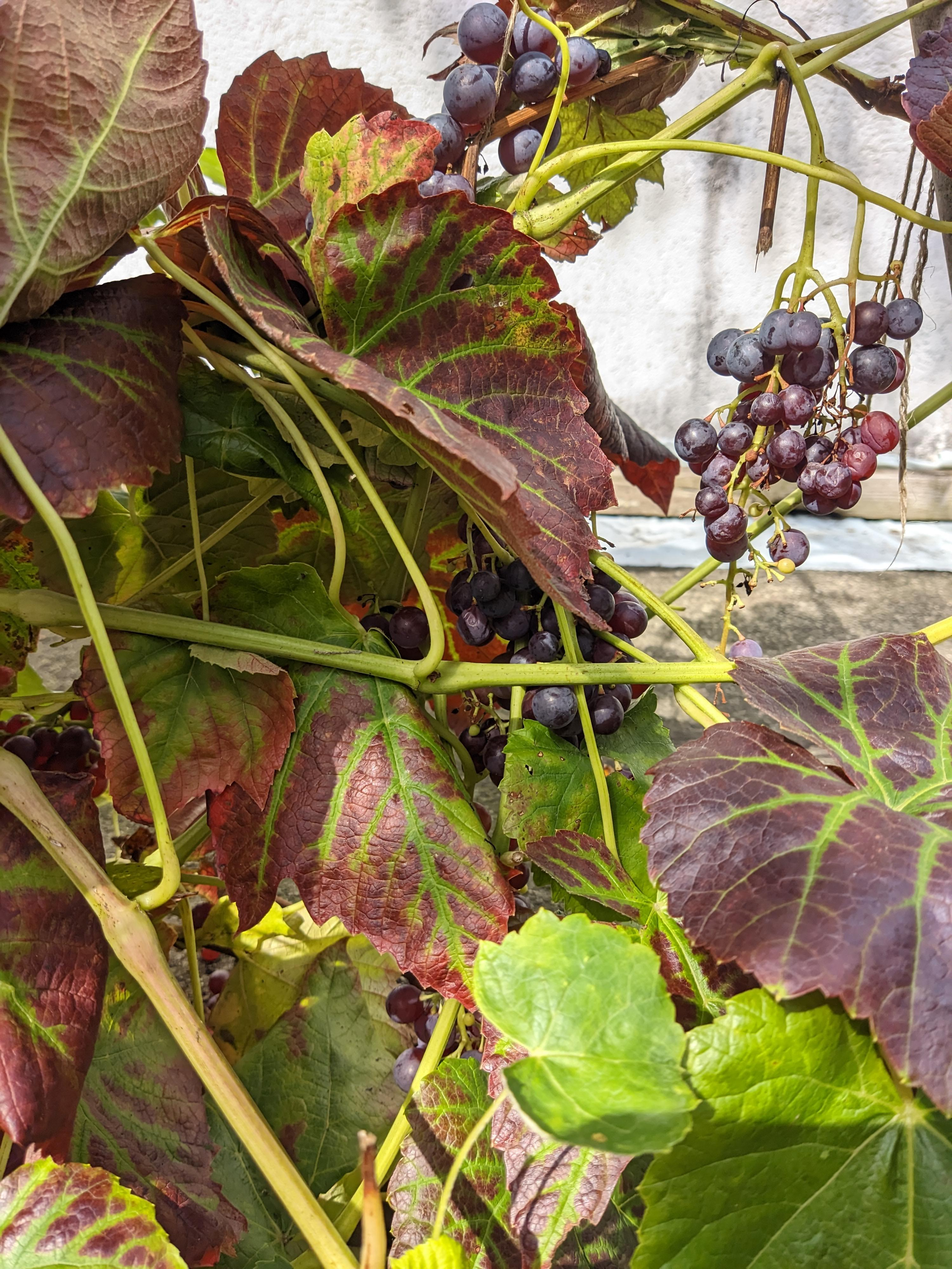Grape Ripe: (675, 294, 919, 563), (420, 2, 614, 210), (448, 553, 650, 736), (378, 981, 451, 1090), (0, 720, 93, 767), (362, 604, 430, 653), (458, 721, 517, 775)
